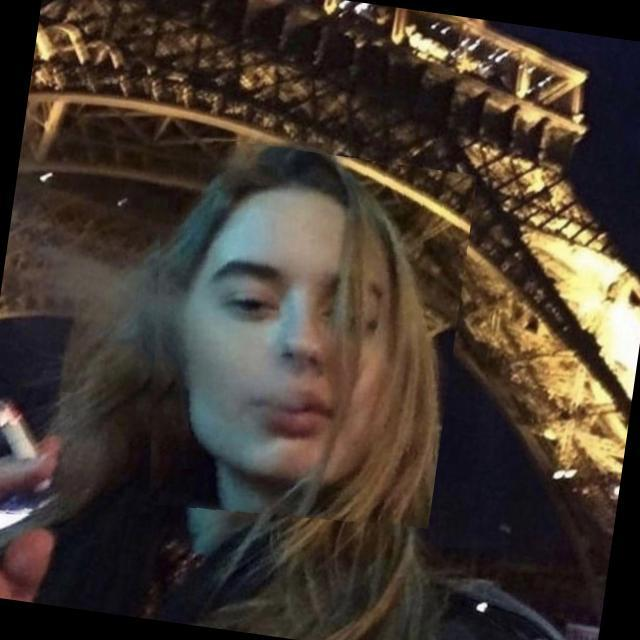cigarette: (0, 381, 75, 522)
